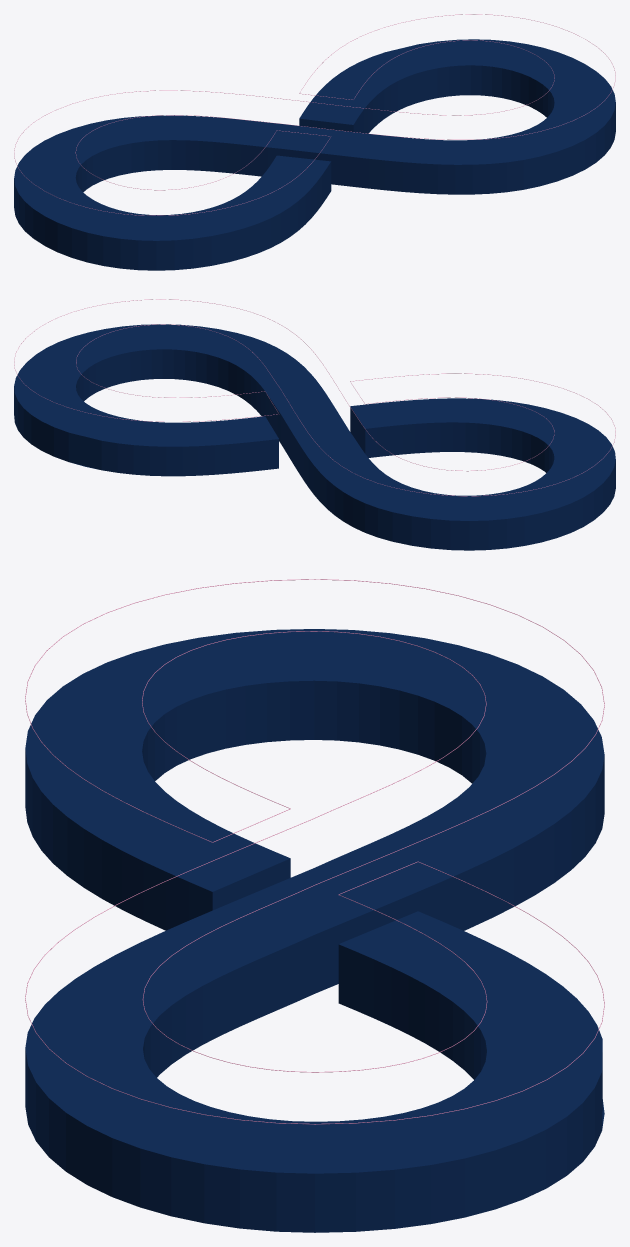
File: Infinity03.gltf
3 renders of one model, top to bottom at view 1: azimuth 30°, elevation 25°; view 2: azimuth 150°, elevation 25°; view 3: azimuth 270°, elevation 25°, orthographic. The views are drawn at different scales.
Parts seen in each view (by area): view 1: Curve, Curve.001; view 2: Curve, Curve.001; view 3: Curve, Curve.001.
Boxes of the visible parts, <box> form: Curve: <box>14,39,615,270</box>; Curve.001: <box>14,14,615,215</box>; Curve: <box>14,324,615,550</box>; Curve.001: <box>14,299,615,496</box>; Curve: <box>25,629,604,1232</box>; Curve.001: <box>25,579,604,1124</box>.
Size of the model in its own units: 8.87 by 0.8258 by 3.99.
